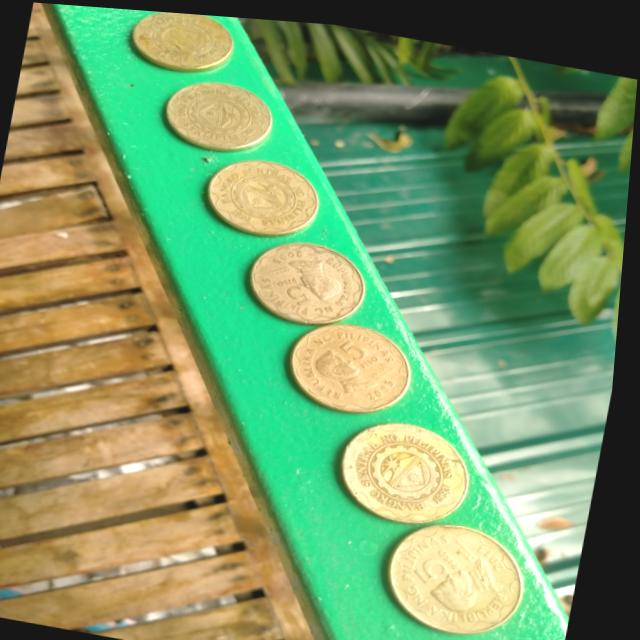5_Old_Back: (351, 416, 477, 518)
5_Old_Front: (260, 238, 358, 312)
